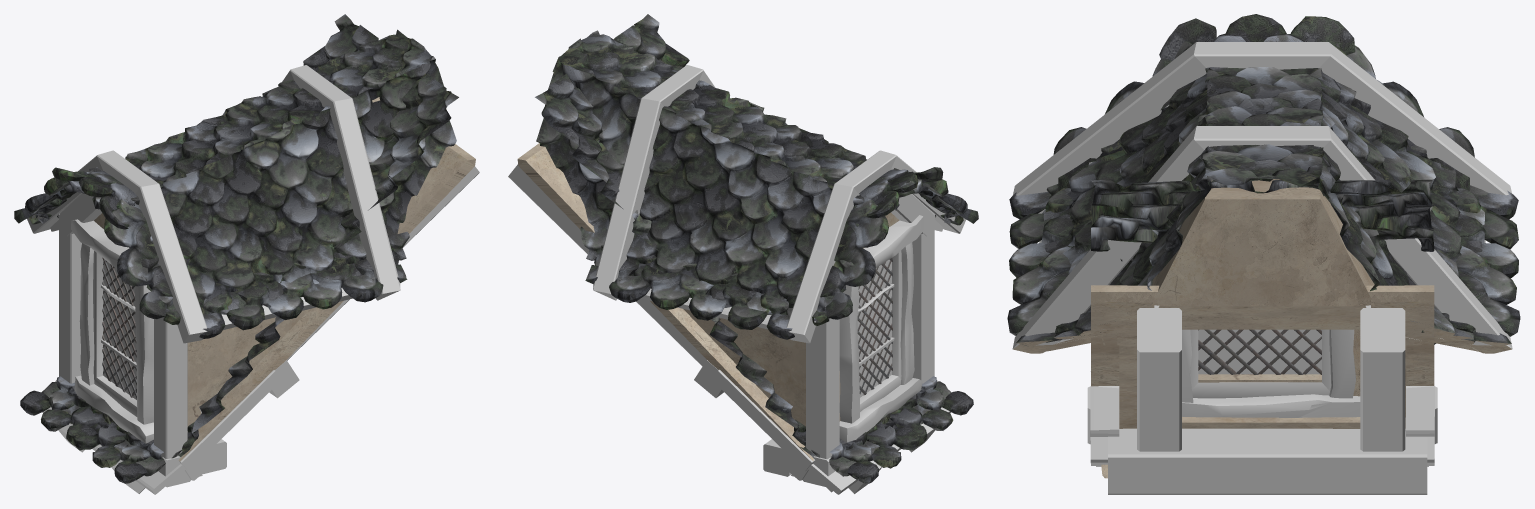
Rendered from SM_Roof_B_03.fbx.
3 views of the same model, side by side, from view 1: azimuth 30°, elevation 25°; view 2: azimuth 150°, elevation 25°; view 3: azimuth 270°, elevation 25° (orthographic). The views are drawn at different scales.
Visible parts, largest first — view 1: SM_Roof_B_03_LOD0; view 2: SM_Roof_B_03_LOD0; view 3: SM_Roof_B_03_LOD0.
Boxes of the visible parts, x1,y1,x2,y2 form: SM_Roof_B_03_LOD0: [14, 14, 479, 494]; SM_Roof_B_03_LOD0: [508, 14, 978, 494]; SM_Roof_B_03_LOD0: [1007, 14, 1520, 494].
Size of the model in its own units: 375 by 299 by 339.
